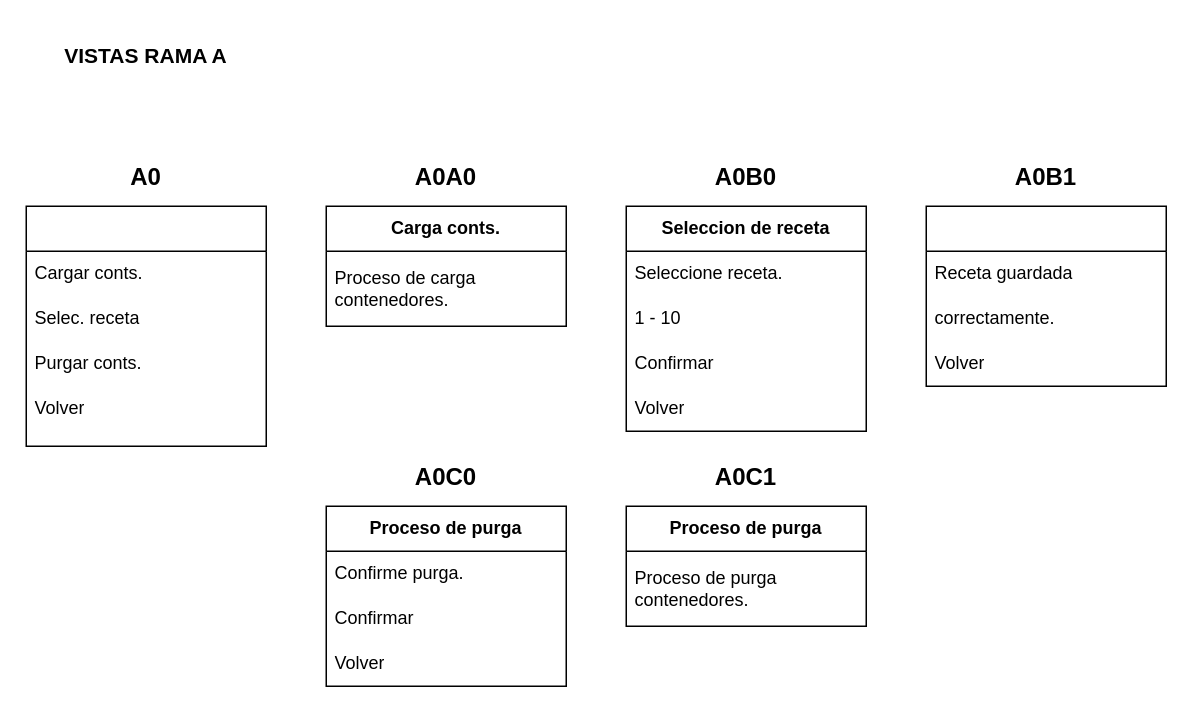
Some shapes in this 1193 by 713 pixel diagram are drawn without their labels. Each missing label, with the box of its shape:
Confirmacion: (925, 205, 1166, 386)
Preparar receta: (25, 205, 266, 446)
